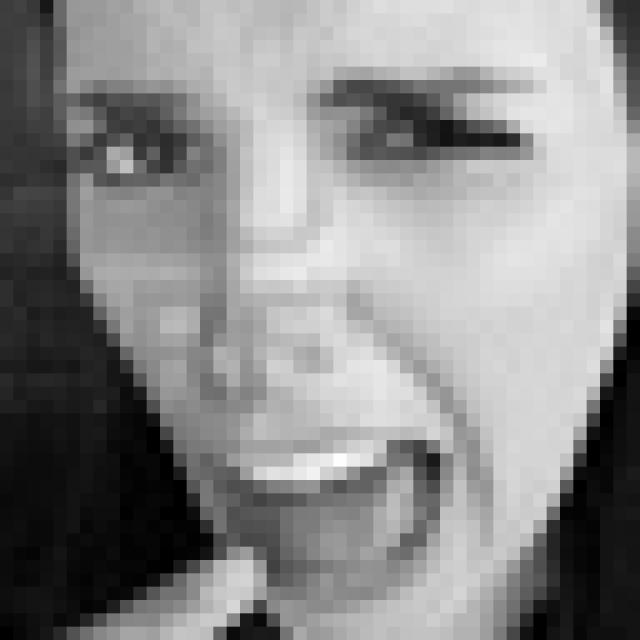disgust: (52, 56, 550, 607)
